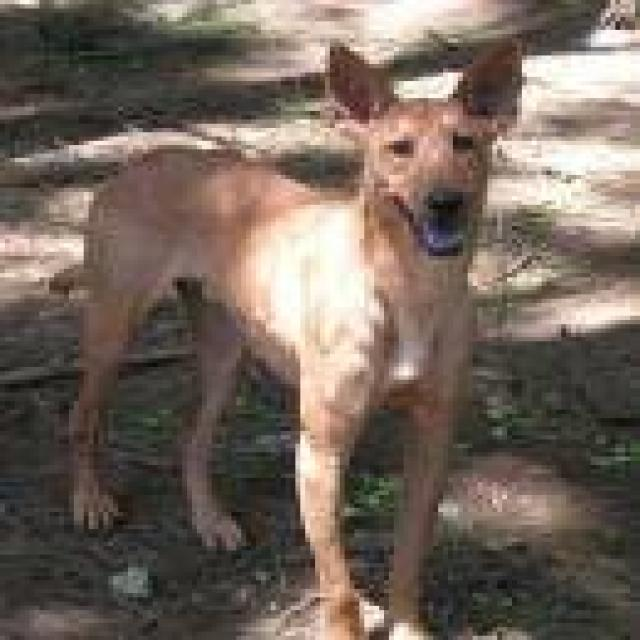dog: (59, 34, 522, 636)
